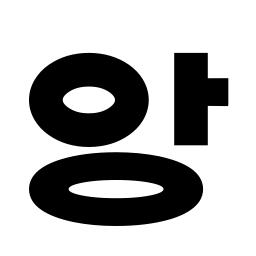Gaji: (163, 65, 225, 116)
